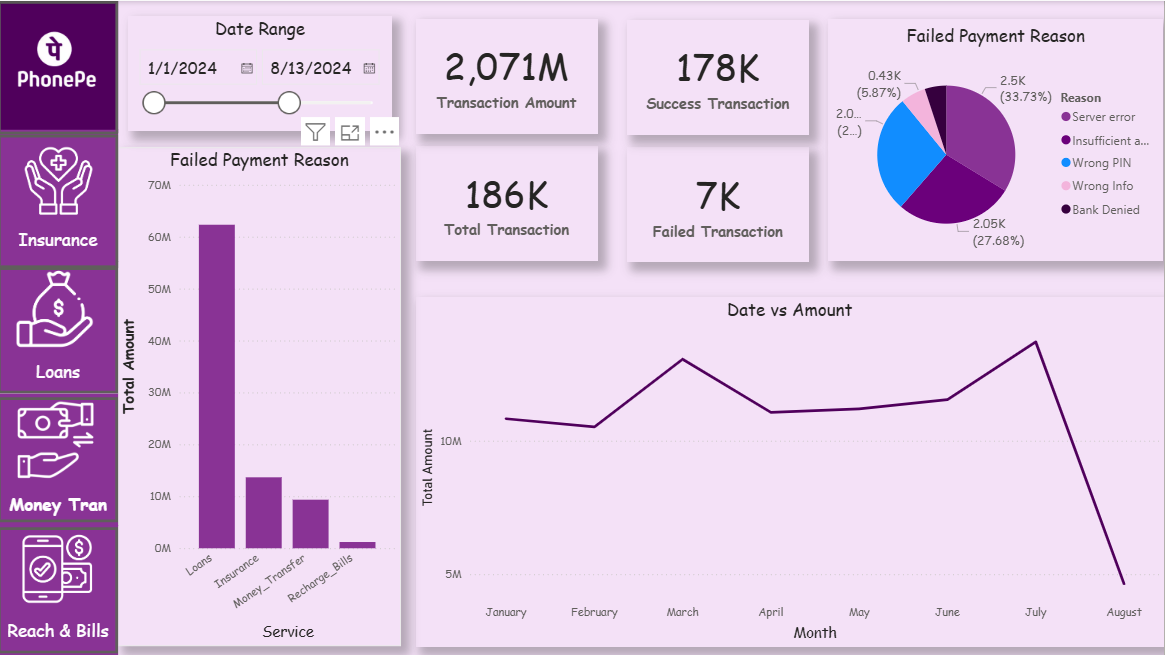

Layout of this report page (visuals, bound fields, positions):
{"tool":"powerbi","page":{"name":"Home","canvas":[1280,720],"ordinal":0},"visuals":[{"type":"shape","box":[0,0,131.9,144.7],"z":0,"group":"g1"},{"type":"slicer","title":"Date Range","fields":{"Values":["All_Transactions.Date"]},"box":[142,15.9,289.9,126.1],"z":0},{"type":"card","title":"Total Transaction Amount","fields":{"Values":["Sum(All_Transactions.Amount)"]},"box":[458,18.8,200,126.1],"z":1000},{"type":"shape","box":[0,141.7,131.9,144.7],"z":1000,"group":"g2"},{"type":"image","box":[5.8,18.8,117.4,94.2],"z":2000,"group":"g1"},{"type":"card","title":"Total Transaction Amount","fields":{"Values":["Count(All_Transactions.Transaction_ID)"]},"box":[458,159.4,200,126.1],"z":2000},{"type":"card","title":"Total Transaction Amount","fields":{"Values":["Count(All_Transactions.Transaction_ID)"]},"box":[689.9,20.3,200,126.1],"z":3000},{"type":"image","box":[15.9,142,100,111.6],"z":3000,"group":"g2"},{"type":"card","title":"Total Transaction Amount","fields":{"Values":["Count(All_Transactions.Transaction_ID)"]},"box":[689.9,160.9,200,126.1],"z":4000},{"type":"shape","box":[0,285.5,131.9,144.9],"z":4000,"group":"g3"},{"type":"pieChart","title":"Failed Payment Reason","fields":{"Category":["All_Transactions.Reason"],"Y":["CountNonNull(All_Transactions.Reason)"]},"box":[911.6,18.8,368.1,266.7],"z":5000},{"type":"shape","box":[0,430.8,131.9,144.7],"z":5000,"group":"g5"},{"type":"lineChart","title":"Date vs Amount","fields":{"Category":["All_Transactions.Date.Variation.Date Hierarchy.Month"],"Y":["Sum(All_Transactions.Amount)"]},"box":[458,324.6,821.7,384.1],"z":6000},{"type":"shape","box":[0,575.4,131.9,144.9],"z":6000,"group":"g4"},{"type":"clusteredColumnChart","title":"Failed Payment Reason","fields":{"Y":["Sum(All_Transactions.Amount)"],"Category":["All_Transactions.Service"]},"box":[131.9,160.9,310.1,547.8],"z":7000},{"type":"image","box":[8.7,285.5,111.6,102.9],"z":7000,"group":"g3"},{"type":"group","id":"g1","title":"Group 1","box":[0,0,131.9,144.7],"z":8000},{"type":"image","box":[5.8,430.4,115.9,101.4],"z":8000,"group":"g5"},{"type":"group","id":"g2","title":"Group 2","box":[0,141.7,131.9,144.7],"z":9000},{"type":"image","box":[8.7,575.4,113,97.1],"z":9000,"group":"g4"},{"type":"textbox","box":[0,243.5,131.9,42],"z":10000,"group":"g2"},{"type":"group","id":"g3","title":"Group 3","box":[0,285.5,131.9,144.9],"z":10000},{"type":"textbox","box":[0,388.4,131.9,42],"z":11000,"group":"g3"},{"type":"group","id":"g4","title":"Group 5","box":[0,575.4,131.9,144.9],"z":11000},{"type":"group","id":"g5","title":"Group 4","box":[0,0,131.9,575.6],"z":12000},{"type":"textbox","box":[0,533.3,131.9,42],"z":12000,"group":"g5"},{"type":"actionButton","box":[0,146.4,131.9,146.4],"z":13000},{"type":"textbox","box":[0,672.5,131.9,42],"z":13000,"group":"g4"},{"type":"actionButton","box":[15.9,292.8,107.2,137.7],"z":14000},{"type":"actionButton","box":[5.8,434.8,117.4,137.7],"z":15000},{"type":"actionButton","box":[8.7,578.3,114.5,137.7],"z":16000},{"type":"actionButton","box":[0,0,131.9,146.4],"z":18010,"group":"g5"}]}

Visuals, with their boxes in screenshot pixels (x1, y1, x2, y2), scaled from the page's 1280x720 canvas onto the 1165x655 screenshot:
shape: [0, 0, 120, 132]
"Date Range" slicer: [129, 14, 393, 129]
"Total Transaction Amount" card: [417, 17, 599, 132]
shape: [0, 129, 120, 261]
image: [5, 17, 112, 103]
"Total Transaction Amount" card: [417, 145, 599, 260]
"Total Transaction Amount" card: [628, 18, 810, 133]
image: [14, 129, 105, 231]
"Total Transaction Amount" card: [628, 146, 810, 261]
shape: [0, 260, 120, 392]
"Failed Payment Reason" pieChart: [830, 17, 1164, 260]
shape: [0, 392, 120, 524]
"Date vs Amount" lineChart: [417, 295, 1164, 645]
shape: [0, 523, 120, 654]
"Failed Payment Reason" clusteredColumnChart: [120, 146, 402, 645]
image: [8, 260, 109, 353]
"Group 1" group: [0, 0, 120, 132]
image: [5, 392, 111, 484]
"Group 2" group: [0, 129, 120, 261]
image: [8, 523, 111, 612]
textbox: [0, 222, 120, 260]
"Group 3" group: [0, 260, 120, 392]
textbox: [0, 353, 120, 392]
"Group 5" group: [0, 523, 120, 654]
"Group 4" group: [0, 0, 120, 524]
textbox: [0, 485, 120, 523]
actionButton: [0, 133, 120, 266]
textbox: [0, 612, 120, 650]
actionButton: [14, 266, 112, 392]
actionButton: [5, 396, 112, 521]
actionButton: [8, 526, 112, 651]
actionButton: [0, 0, 120, 133]
